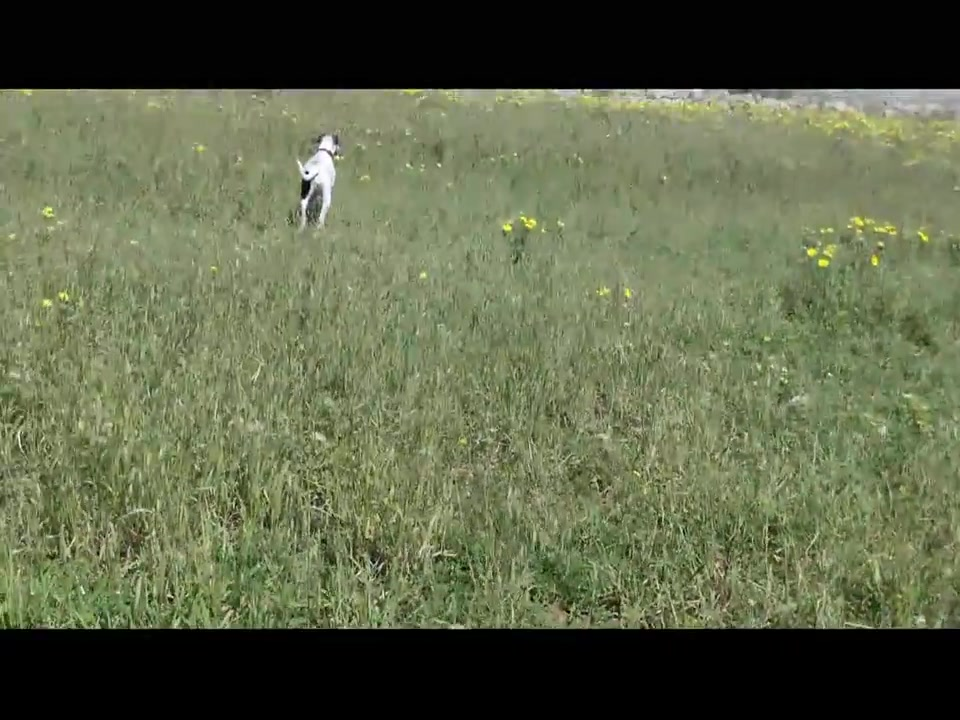dog: (291, 131, 348, 232)
